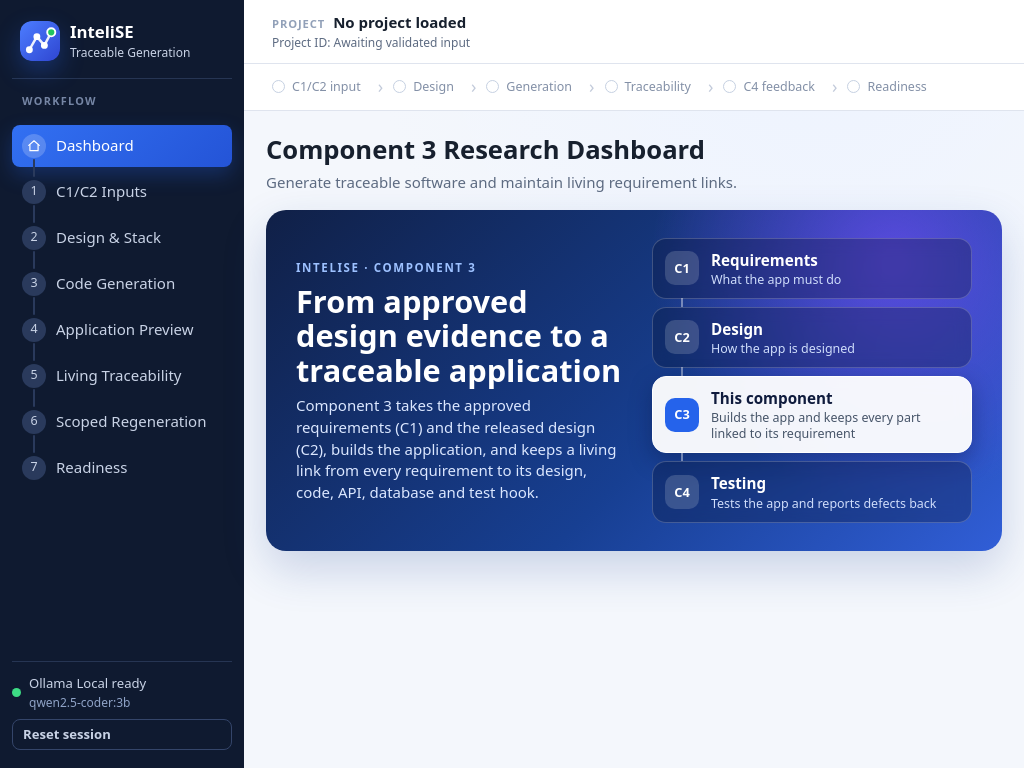
Test case: Living traceability chain visual › explains the next step when no graph exists
The width and height of the screenshot is (1024, 768).
Click the button "5 Living Traceability" at point(122, 376), box [12,354,232,396]
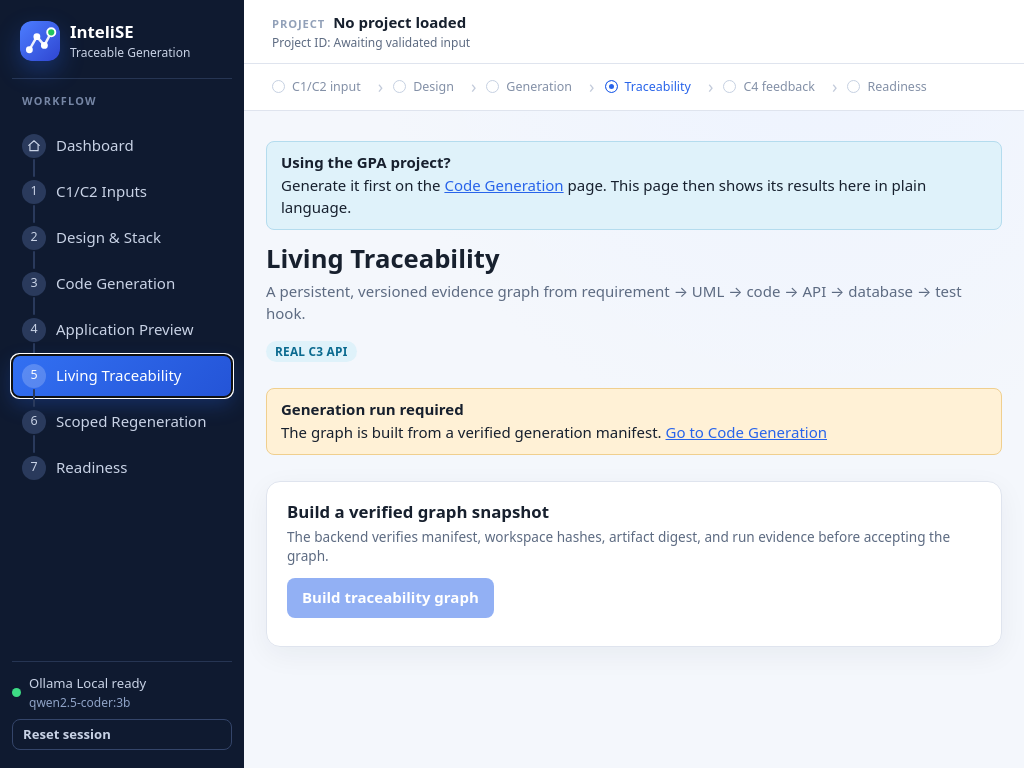
Expected: the text "Generation run required" is shown, [281,399,464,419]
